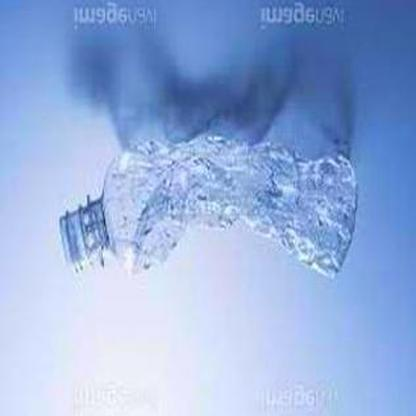plastic bottle: (58, 133, 359, 277)
